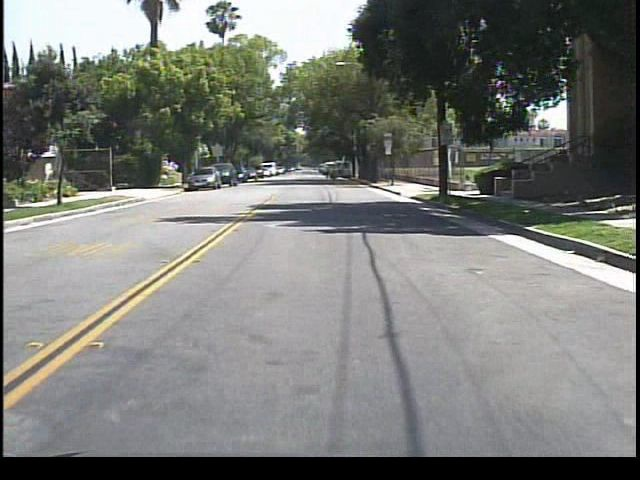person: (319, 160, 335, 185)
